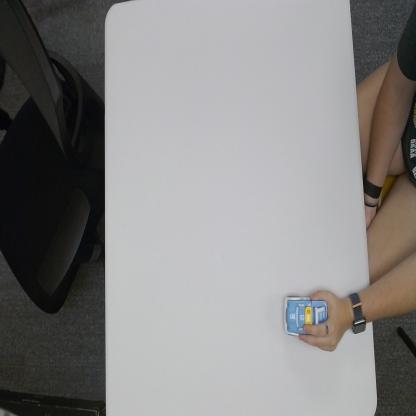Car: (282, 294, 328, 338)
Hand: (300, 287, 346, 354)
